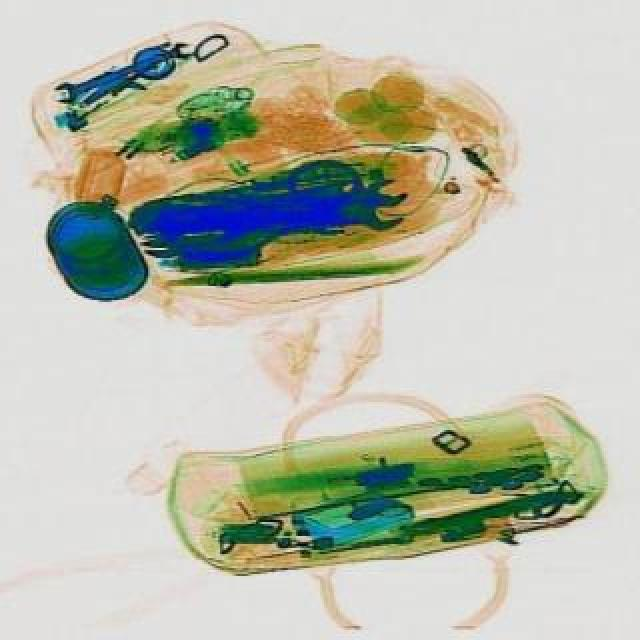scissors: (48, 34, 196, 106), (280, 190, 400, 238), (308, 172, 410, 220)
